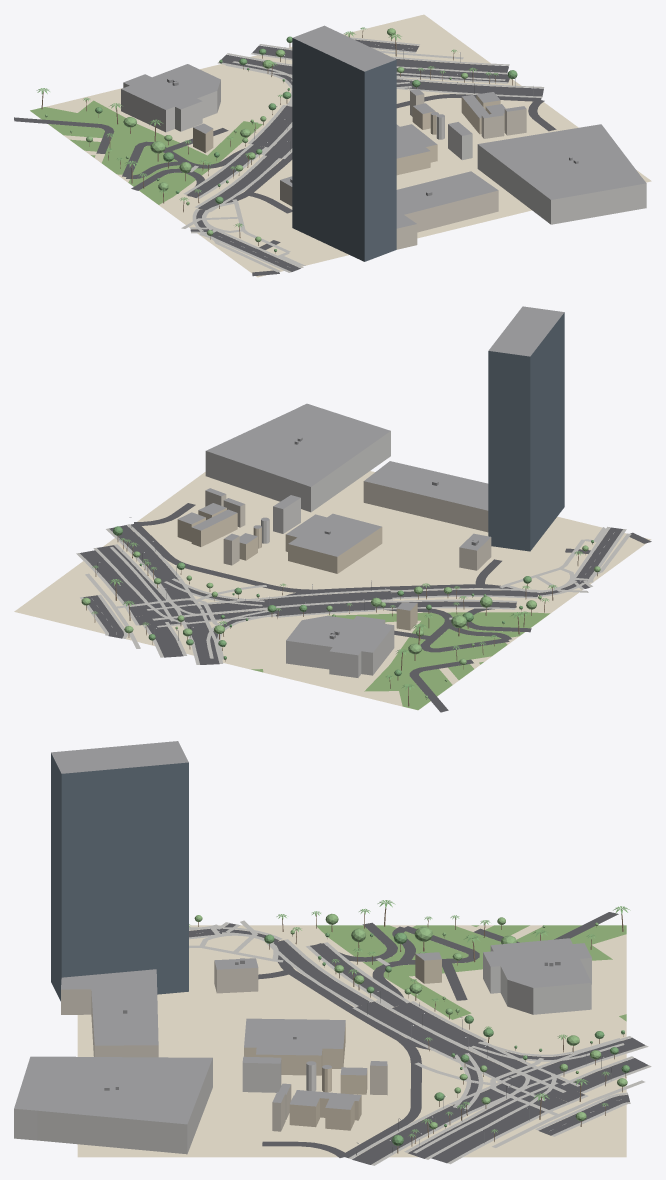
The model's file is tile_-4_4.glb.
3 views of the same model, one above another, from view 1: azimuth 30°, elevation 25°; view 2: azimuth 150°, elevation 25°; view 3: azimuth 270°, elevation 25° (orthographic). The views are drawn at different scales.
Visible parts, largest first — view 1: nature_ground, buildings_glass_dark, buildings_roof, roads_asphalt, buildings_concrete_light, nature_grass, roads_sidewalk, buildings_concrete_warm, buildings_sandstone, nature_foliage_b, nature_palm_leaf, nature_foliage_a (+1 smaller); view 2: nature_ground, buildings_roof, roads_asphalt, buildings_glass_dark, roads_sidewalk, buildings_concrete_light, nature_grass, buildings_concrete_warm, buildings_sandstone, nature_foliage_b, nature_palm_leaf, nature_trunk (+1 smaller); view 3: nature_ground, buildings_glass_dark, buildings_roof, roads_asphalt, roads_sidewalk, buildings_concrete_light, nature_grass, buildings_sandstone, buildings_concrete_warm, nature_foliage_b, nature_palm_leaf, nature_foliage_a (+1 smaller).
Boxes of the visible parts, box(x1,y1,x2,y2) form: nature_ground: box(33, 14, 651, 277); buildings_glass_dark: box(292, 38, 396, 261); buildings_roof: box(121, 25, 646, 228); roads_asphalt: box(14, 39, 556, 276); buildings_concrete_light: box(121, 80, 646, 224); nature_grass: box(30, 100, 262, 204); roads_sidewalk: box(181, 37, 544, 272); buildings_concrete_warm: box(280, 91, 526, 249); buildings_sandstone: box(193, 95, 504, 175); nature_foliage_b: box(45, 28, 468, 242); nature_palm_leaf: box(36, 27, 498, 227); nature_foliage_a: box(95, 36, 517, 251); nature_ground: box(14, 471, 651, 710); buildings_roof: box(178, 306, 564, 655); roads_asphalt: box(80, 503, 651, 712); buildings_glass_dark: box(488, 312, 564, 551); roads_sidewalk: box(76, 524, 631, 664); buildings_concrete_light: box(205, 431, 394, 677); nature_grass: box(251, 612, 550, 709); buildings_concrete_warm: box(205, 481, 491, 570); buildings_sandstone: box(177, 508, 417, 630); nature_foliage_b: box(81, 545, 600, 698); nature_palm_leaf: box(91, 538, 583, 690); nature_trunk: box(86, 536, 597, 706); nature_ground: box(77, 925, 626, 1157); buildings_glass_dark: box(51, 753, 188, 1001); buildings_roof: box(14, 741, 591, 1124); roads_asphalt: box(189, 912, 648, 1164); roads_sidewalk: box(189, 920, 651, 1165); buildings_concrete_light: box(14, 946, 591, 1154); nature_grass: box(316, 925, 626, 1021); buildings_sandstone: box(244, 954, 441, 1130); buildings_concrete_warm: box(61, 961, 387, 1131); nature_foliage_b: box(194, 913, 627, 1129); nature_palm_leaf: box(189, 900, 630, 1137); nature_foliage_a: box(264, 932, 629, 1145).
Bounding box in the file's own units: 274 × 115 × 291.
